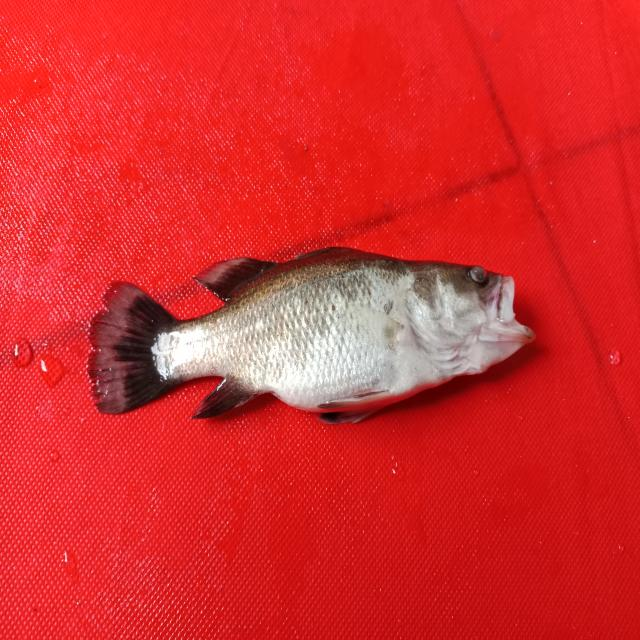ikan: (65, 217, 548, 458)
